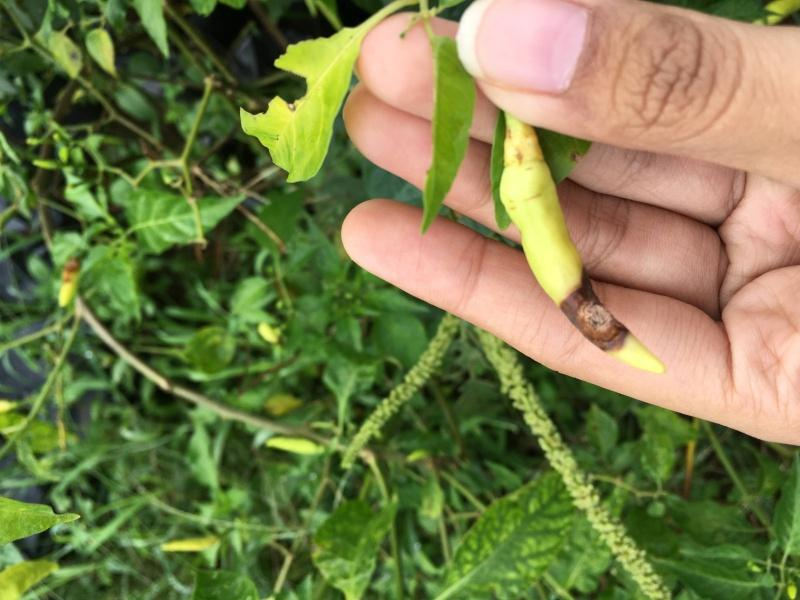antraknosa: (500, 136, 666, 380)
